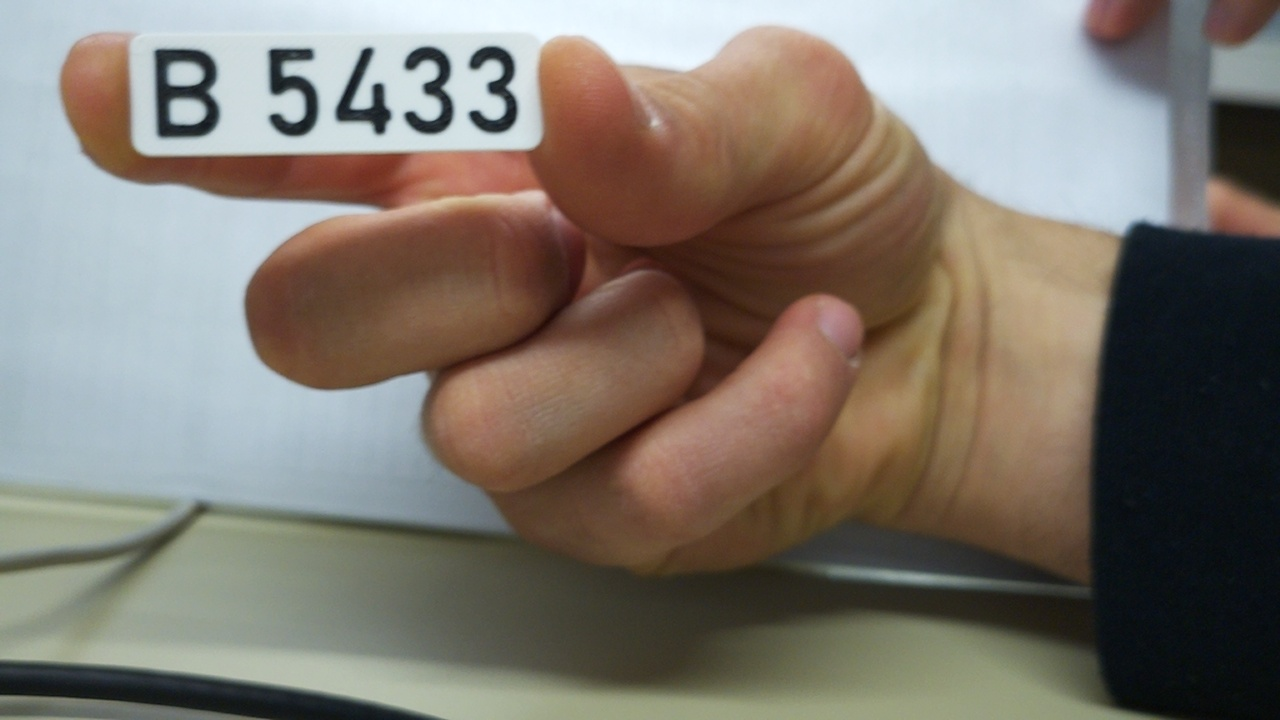license_plate: (127, 28, 544, 155)
